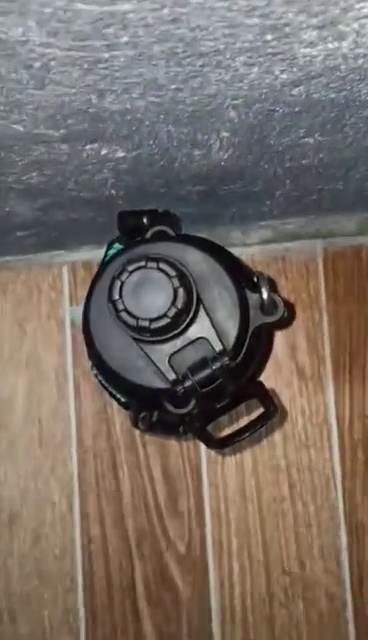tumbler: (81, 211, 298, 459)
